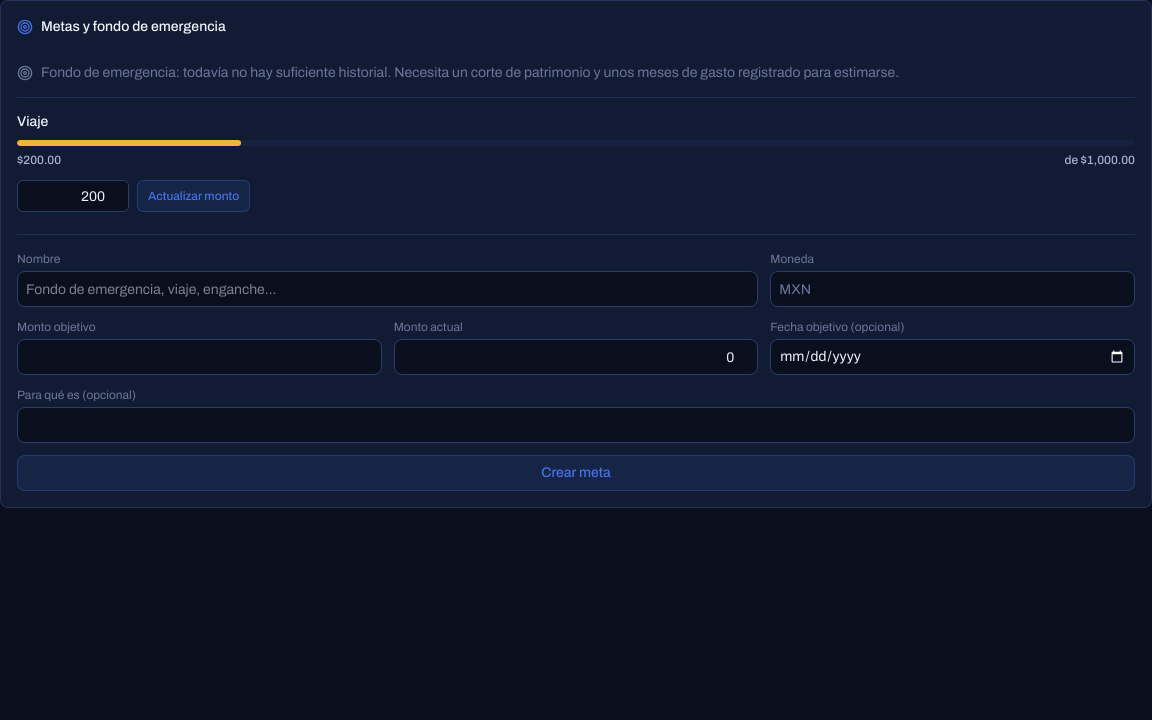
Test case: GoalsPanel goal update › says so next to the action when updating a goal amount fails, and does not refresh
Click the button "Actualizar monto".
click(194, 196)  # box x1=137 y1=180 x2=250 y2=212
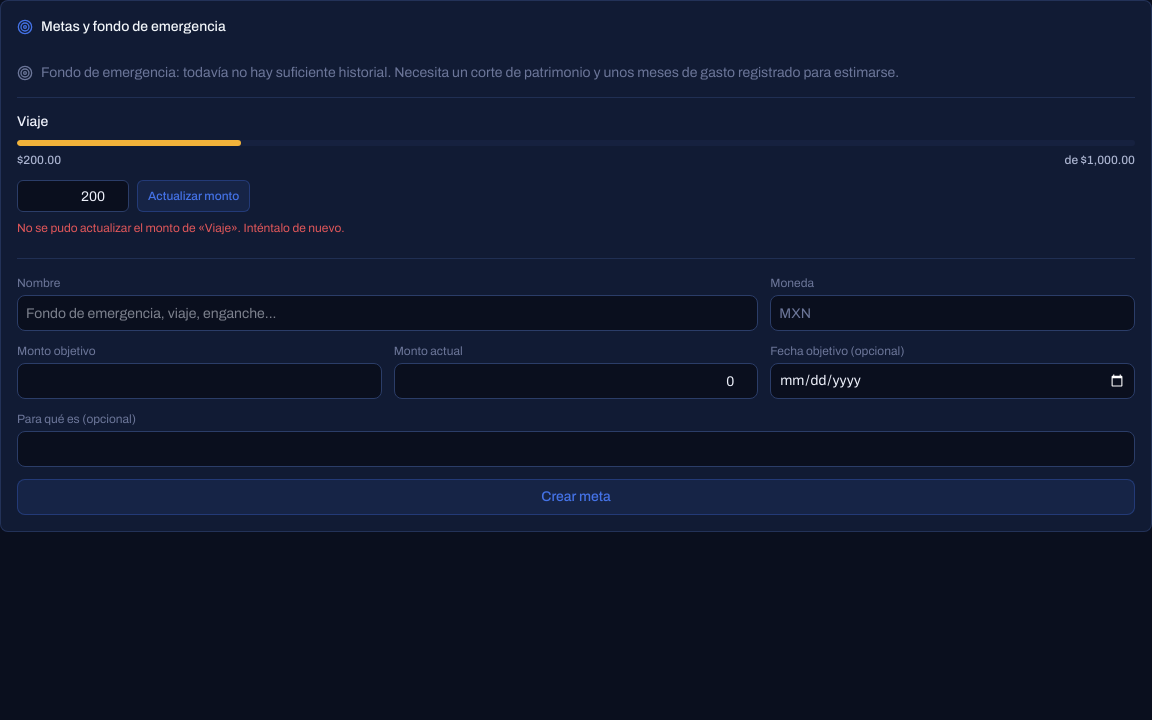
Now the message shows "No se pudo actualizar el monto de «Viaje»", box x1=17 y1=221 x2=345 y2=235
